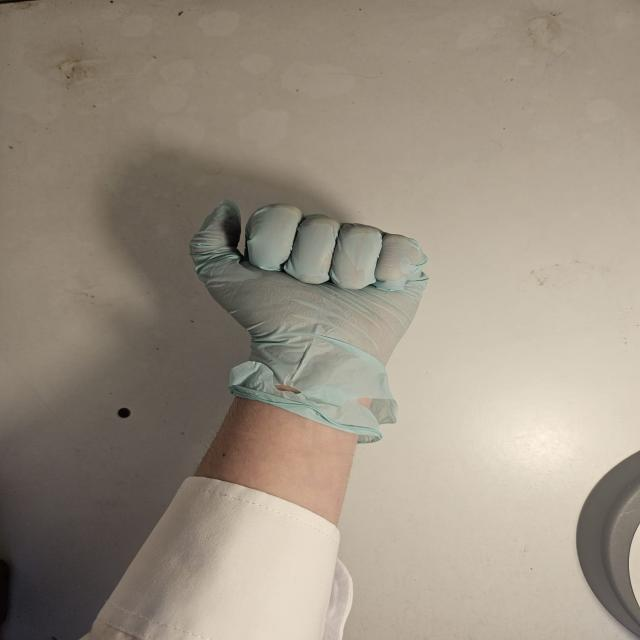gloves_damaged: (183, 197, 429, 444)
